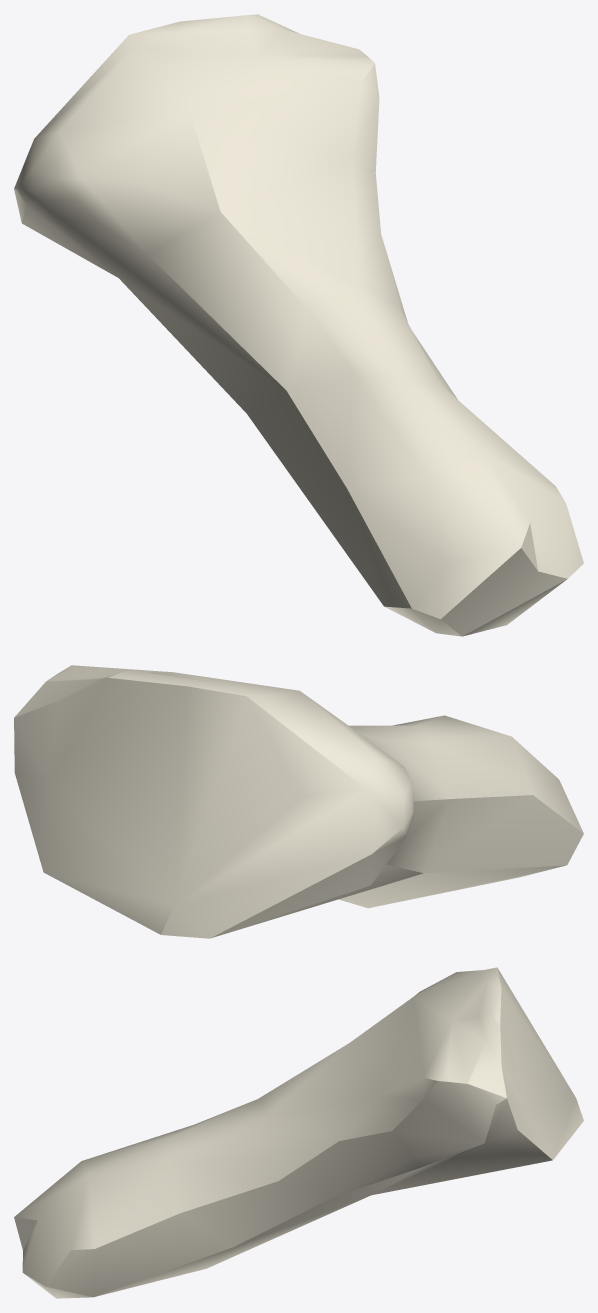
Rendered from fma24462_fj6307.glb.
3 views of the same model, one above another, from view 1: azimuth 30°, elevation 25°; view 2: azimuth 150°, elevation 25°; view 3: azimuth 270°, elevation 25° (orthographic). The views are drawn at different scales.
Parts seen in each view (by area): view 1: FMA24462_FJ6307; view 2: FMA24462_FJ6307; view 3: FMA24462_FJ6307.
Part boxes in pixels (x1=…): FMA24462_FJ6307: x1=14, y1=14, x2=583, y2=636; FMA24462_FJ6307: x1=14, y1=665, x2=583, y2=938; FMA24462_FJ6307: x1=14, y1=967, x2=583, y2=1298.
Size of the model in its own units: 0.00835 by 0.00909 by 0.0157.
